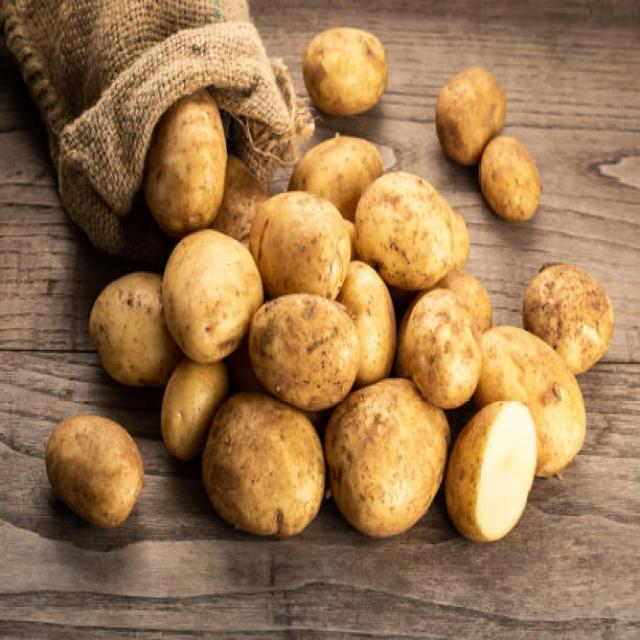potato: (202, 398, 328, 537), (329, 382, 439, 535), (446, 398, 538, 546), (249, 292, 359, 410), (354, 168, 470, 278), (44, 410, 146, 530), (162, 225, 246, 356), (147, 94, 230, 226), (254, 189, 350, 296), (520, 258, 616, 359), (404, 288, 480, 409), (90, 268, 160, 389), (304, 24, 386, 115), (481, 136, 545, 226), (292, 131, 378, 192), (438, 62, 510, 134), (353, 272, 399, 384)
